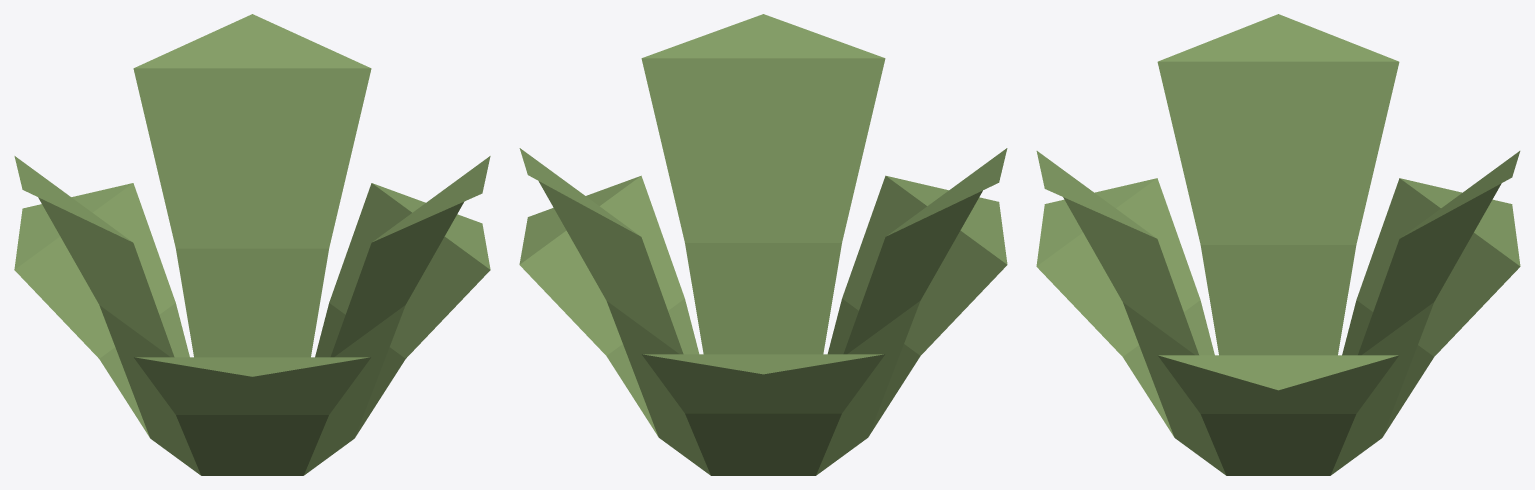
The model's file is K_Bush_Large.glb.
The picture shows the model from 3 angles, left to right: view 1: azimuth 30°, elevation 25°; view 2: azimuth 150°, elevation 25°; view 3: azimuth 270°, elevation 25°; orthographic projection. The views are drawn at different scales.
Visible parts, largest first — view 1: K_Bush_Large; view 2: K_Bush_Large; view 3: K_Bush_Large.
Part boxes in pixels (x1=…): K_Bush_Large: x1=14, y1=14, x2=490, y2=475; K_Bush_Large: x1=519, y1=14, x2=1007, y2=475; K_Bush_Large: x1=1036, y1=14, x2=1520, y2=475.
Bounding box in the file's own units: 1.87 × 1.21 × 1.68.
